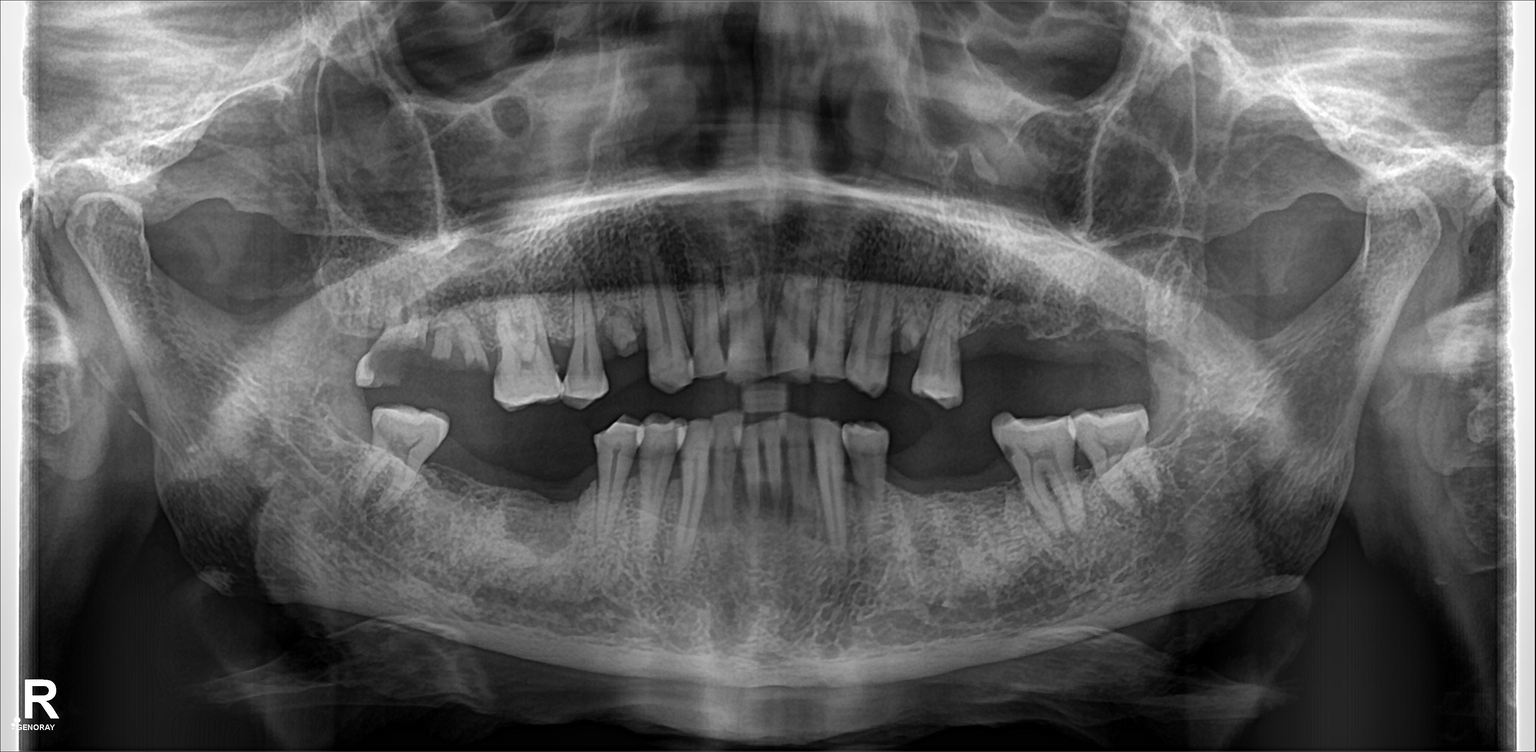Dental Caries: (367, 344, 402, 372)
Missing Tooth: (553, 437, 600, 562), (454, 434, 504, 551), (896, 426, 943, 541), (953, 439, 1001, 551), (505, 439, 542, 563), (959, 302, 1004, 392), (1099, 287, 1143, 374), (1015, 294, 1056, 383), (1065, 285, 1092, 392)
Retained Root: (600, 313, 636, 384), (453, 320, 489, 387), (896, 302, 922, 387), (421, 316, 451, 381)
Tooth Fracture: (358, 318, 417, 398)
